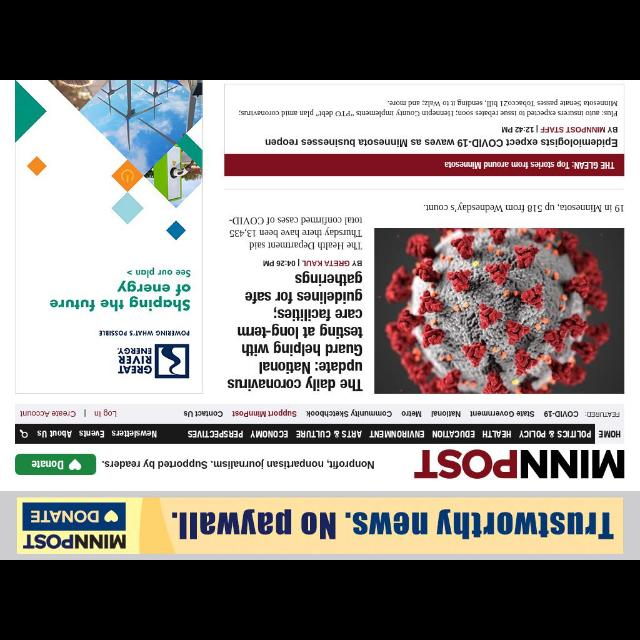icon: (17, 429, 28, 439)
image: (15, 82, 199, 392), (372, 228, 626, 396), (409, 446, 625, 482), (20, 502, 126, 550)
text: (226, 272, 364, 392), (170, 508, 616, 540), (236, 99, 618, 117), (224, 215, 362, 251), (101, 458, 375, 472), (262, 138, 618, 148), (422, 200, 624, 212), (443, 158, 615, 172), (263, 258, 361, 268), (499, 126, 618, 134), (186, 428, 244, 440), (232, 408, 294, 419), (306, 410, 388, 418), (518, 430, 592, 438), (18, 409, 76, 419), (470, 409, 534, 418), (296, 429, 362, 437), (249, 428, 289, 440), (110, 429, 158, 439), (432, 429, 476, 439), (38, 428, 72, 440), (183, 408, 223, 418), (371, 432, 425, 438), (77, 428, 106, 438), (542, 410, 578, 418), (429, 410, 461, 418), (483, 429, 512, 437), (92, 410, 118, 418), (586, 412, 620, 418), (598, 430, 622, 438), (402, 410, 422, 418)
textbutton: (14, 453, 98, 475)
toolbar: (13, 424, 624, 444), (16, 408, 624, 424)
